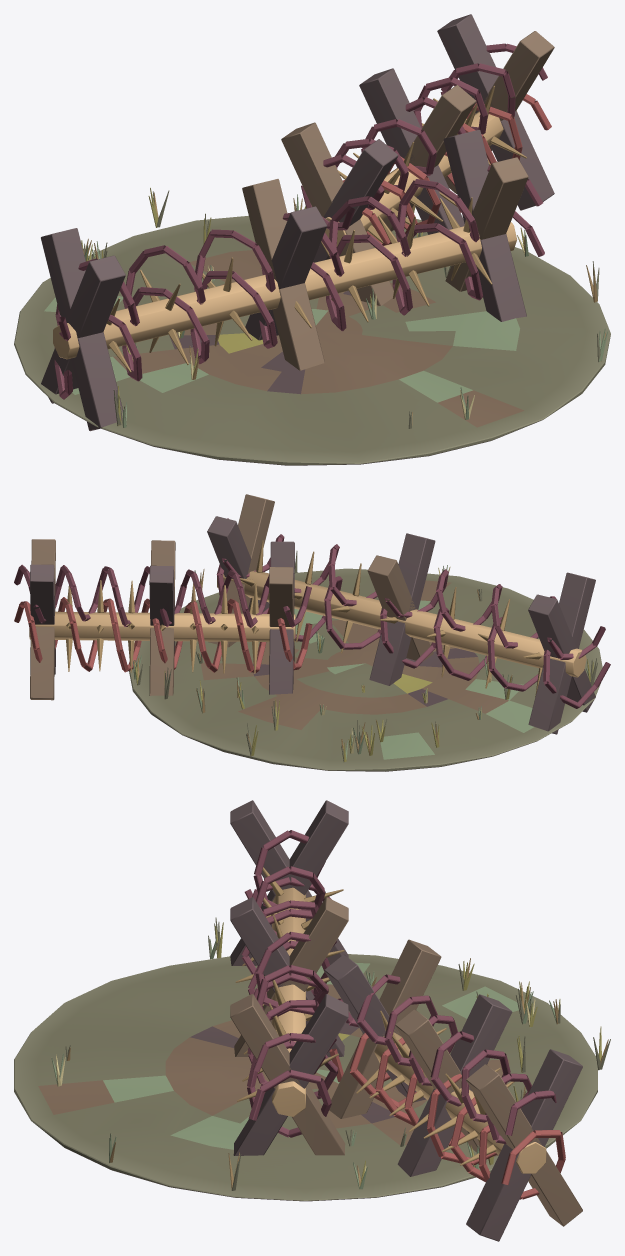
File: wire_obstacles_v1.glb
3 renders of one model, top to bottom at view 1: azimuth 30°, elevation 25°; view 2: azimuth 150°, elevation 25°; view 3: azimuth 270°, elevation 25°, orthographic. The views are drawn at different scales.
Parts seen in each view (by area): view 1: Body; view 2: Body; view 3: Body.
Part boxes in pixels (box(x1,y1,x2,y2)): Body: box(14, 14, 610, 465); Body: box(14, 494, 610, 771); Body: box(14, 800, 610, 1241).
Size of the model in its own units: 0.855 by 0.2246 by 0.7274.
